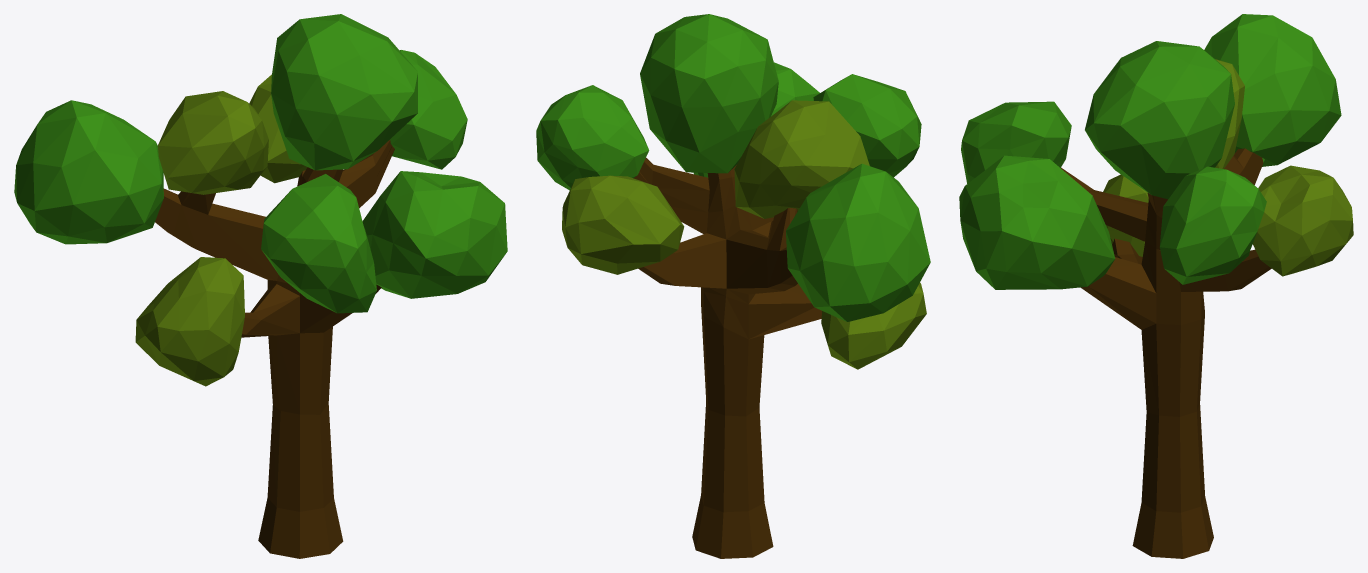
File: tree1.dae
3 views of the same model, side by side, from view 1: azimuth 30°, elevation 25°; view 2: azimuth 150°, elevation 25°; view 3: azimuth 270°, elevation 25° (orthographic).
Parts seen in each view (by area): view 1: Arbre_Normal; view 2: Arbre_Normal; view 3: Arbre_Normal.
Part boxes in pixels (bbox=[...]): Arbre_Normal: bbox=[14, 14, 507, 558]; Arbre_Normal: bbox=[536, 14, 930, 558]; Arbre_Normal: bbox=[959, 14, 1353, 558].
Bounding box in the file's own units: 3.18 × 2.75 × 3.92.
